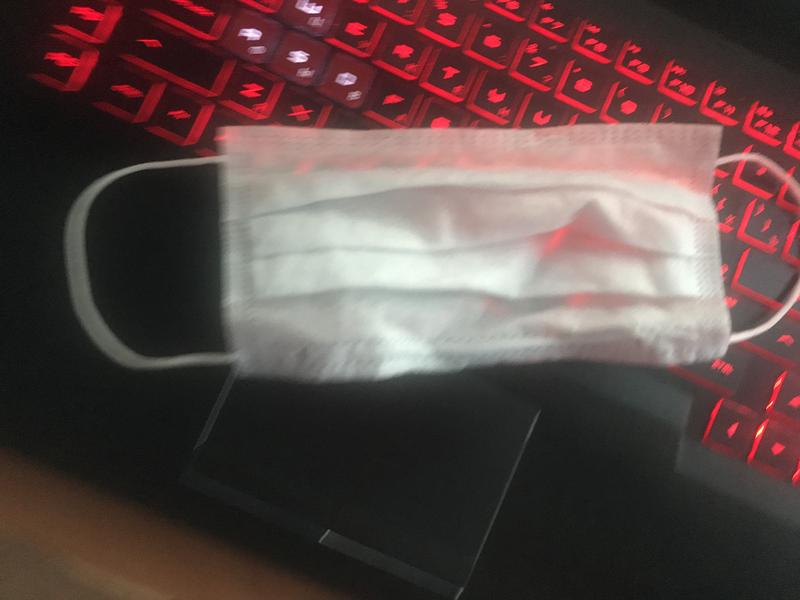medical_mask: (67, 117, 800, 371)
